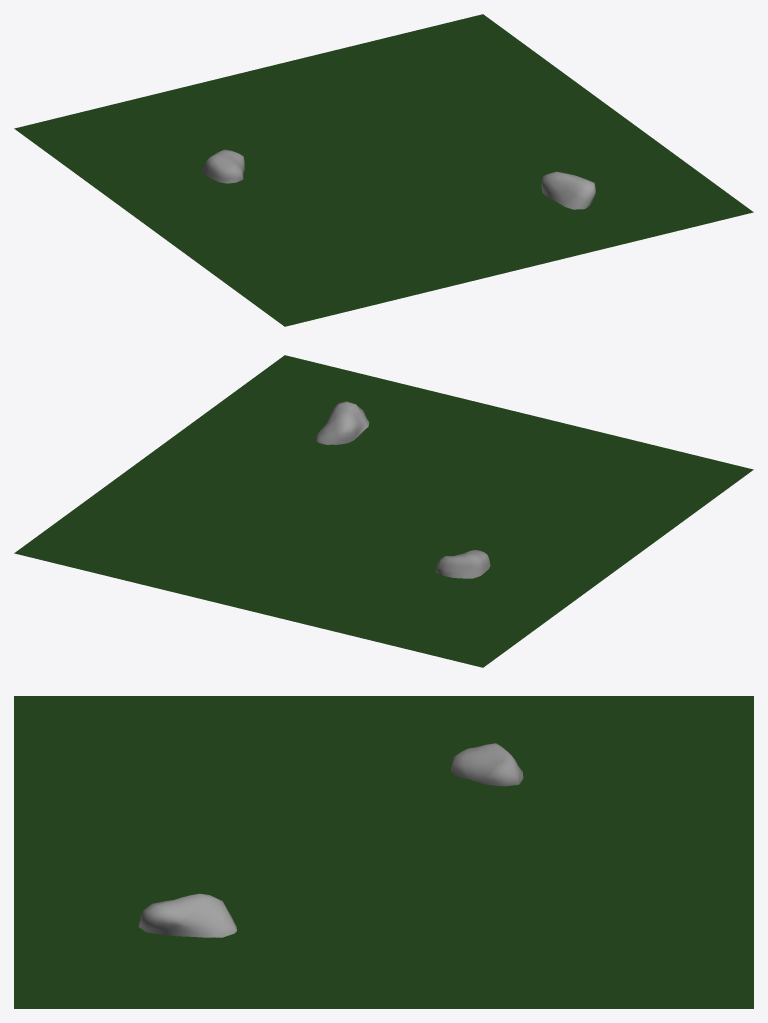
The model's file is sol map forêt3.fbx.
3 views of the same model, one above another, from view 1: azimuth 30°, elevation 25°; view 2: azimuth 150°, elevation 25°; view 3: azimuth 270°, elevation 25° (orthographic). The views are drawn at different scales.
Visible parts, largest first — view 1: sol map forêt2; view 2: sol map forêt2; view 3: sol map forêt2.
Boxes of the visible parts, x1,y1,x2,y2 form: sol map forêt2: (14,14,753,326); sol map forêt2: (14,355,753,667); sol map forêt2: (14,696,753,1008).
Bounding box in the file's own units: 200 × 19.59 × 200.
